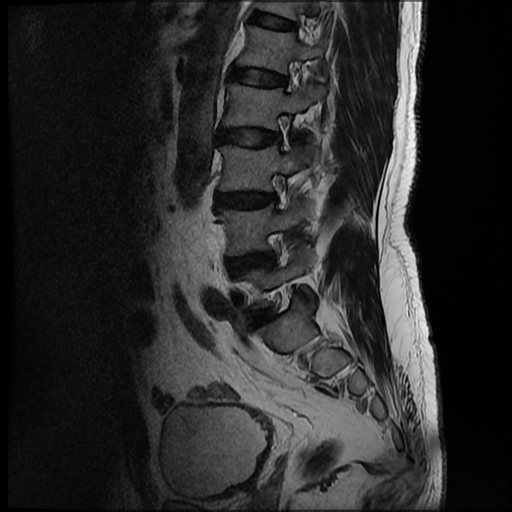LFS0: (253, 164, 298, 218), (259, 104, 303, 159), (270, 52, 315, 104)
